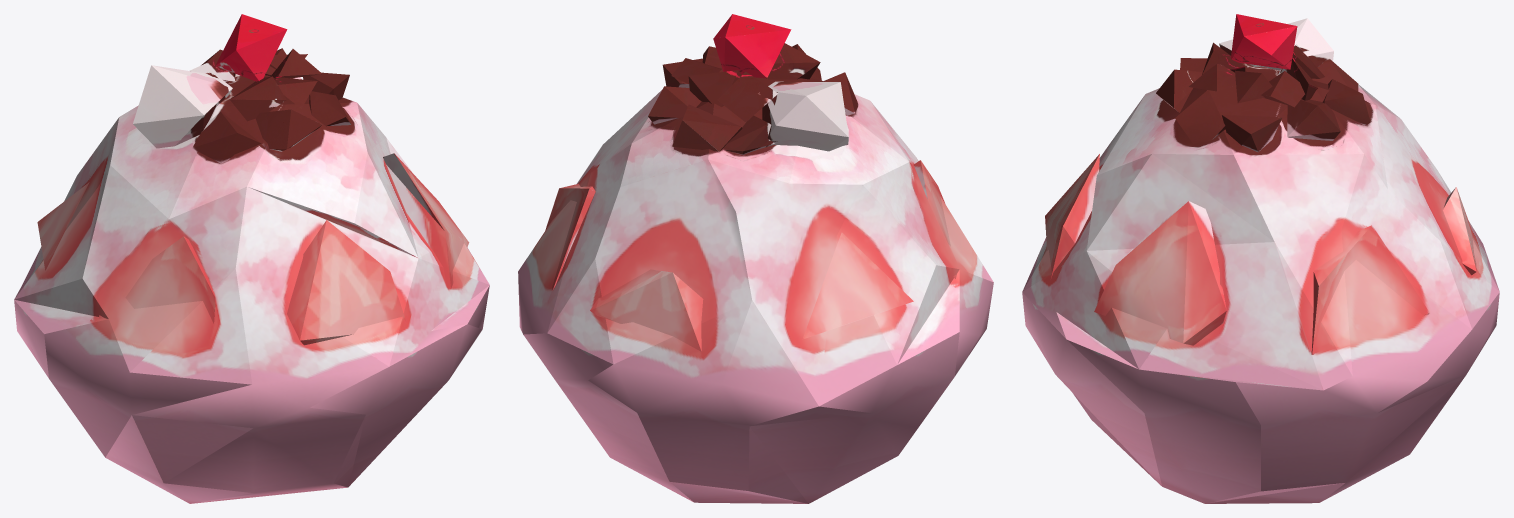
Rendered from source.fbx.
The picture shows the model from 3 angles, left to right: view 1: azimuth 30°, elevation 25°; view 2: azimuth 150°, elevation 25°; view 3: azimuth 270°, elevation 25°; orthographic projection.
Parts seen in each view (by area): view 1: output_unwrapped; view 2: output_unwrapped; view 3: output_unwrapped.
Boxes of the visible parts, x1,y1,x2,y2 form: output_unwrapped: (14, 14, 489, 503); output_unwrapped: (518, 14, 993, 503); output_unwrapped: (1022, 14, 1499, 503).
Size of the model in its own units: 17.75 by 18 by 17.67.
1 material, 1 textured.
